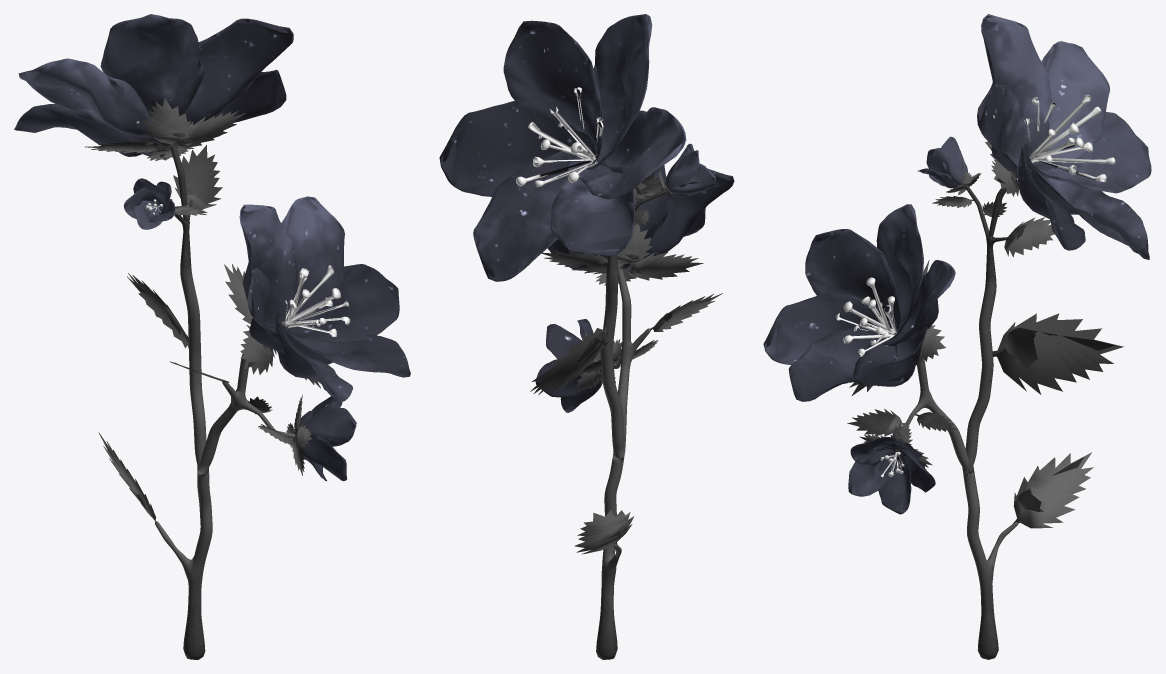
Rendered from StarDead.fbx.
The picture shows the model from 3 angles, left to right: view 1: azimuth 30°, elevation 25°; view 2: azimuth 150°, elevation 25°; view 3: azimuth 270°, elevation 25°; orthographic projection. The views are drawn at different scales.
Parts seen in each view (by area): view 1: Starflower; view 2: Starflower; view 3: Starflower.
Boxes of the visible parts, left/top/right/bottom form: Starflower: left=14, top=14, right=410, bottom=659; Starflower: left=439, top=14, right=734, bottom=659; Starflower: left=763, top=14, right=1151, bottom=659.
Size of the model in its own units: 222 by 488 by 275.
1 material, 1 textured.
